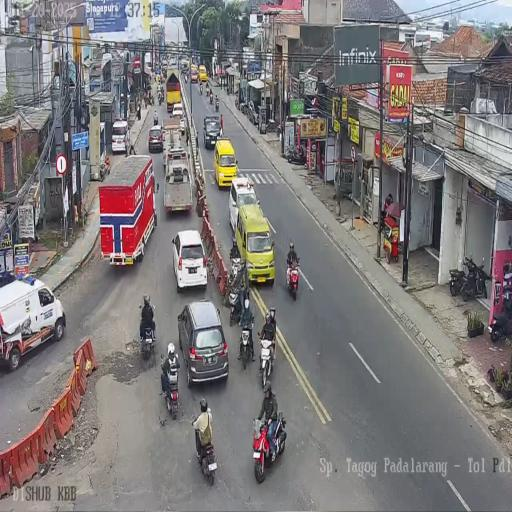car: (178, 300, 229, 386), (236, 204, 274, 284), (171, 230, 207, 294), (213, 138, 238, 190), (203, 114, 222, 150), (112, 119, 130, 155), (148, 125, 164, 153), (171, 102, 184, 132), (246, 100, 260, 125), (198, 65, 208, 83), (191, 65, 198, 83), (161, 58, 168, 69)
motorcycle: (252, 409, 286, 484), (195, 418, 218, 486), (461, 254, 488, 300), (489, 290, 512, 342), (161, 358, 180, 419), (238, 312, 256, 370), (257, 333, 275, 388), (227, 277, 244, 327), (140, 315, 156, 361), (286, 254, 300, 300), (285, 143, 306, 165), (240, 96, 249, 115), (276, 121, 282, 138), (234, 89, 239, 109), (148, 92, 154, 106), (215, 95, 219, 112), (162, 67, 167, 80), (158, 90, 162, 104), (209, 91, 213, 104), (199, 83, 203, 95), (184, 73, 188, 84)
truck: (99, 155, 157, 266), (180, 57, 189, 73), (144, 52, 151, 72), (170, 56, 177, 68)
